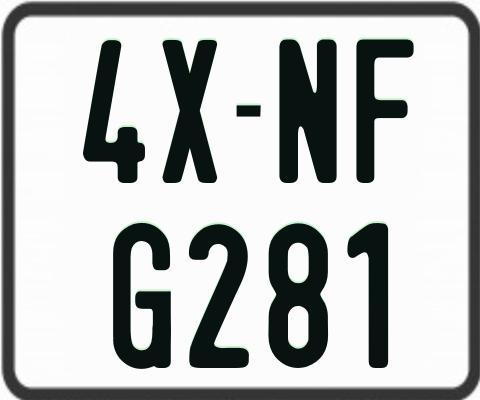1: (345, 222, 391, 373)
2: (189, 221, 250, 365)
4: (83, 40, 147, 184)
8: (267, 223, 328, 371)
F: (353, 36, 412, 185)
G: (111, 223, 175, 371)
N: (276, 37, 339, 181)
X: (160, 37, 220, 186)
